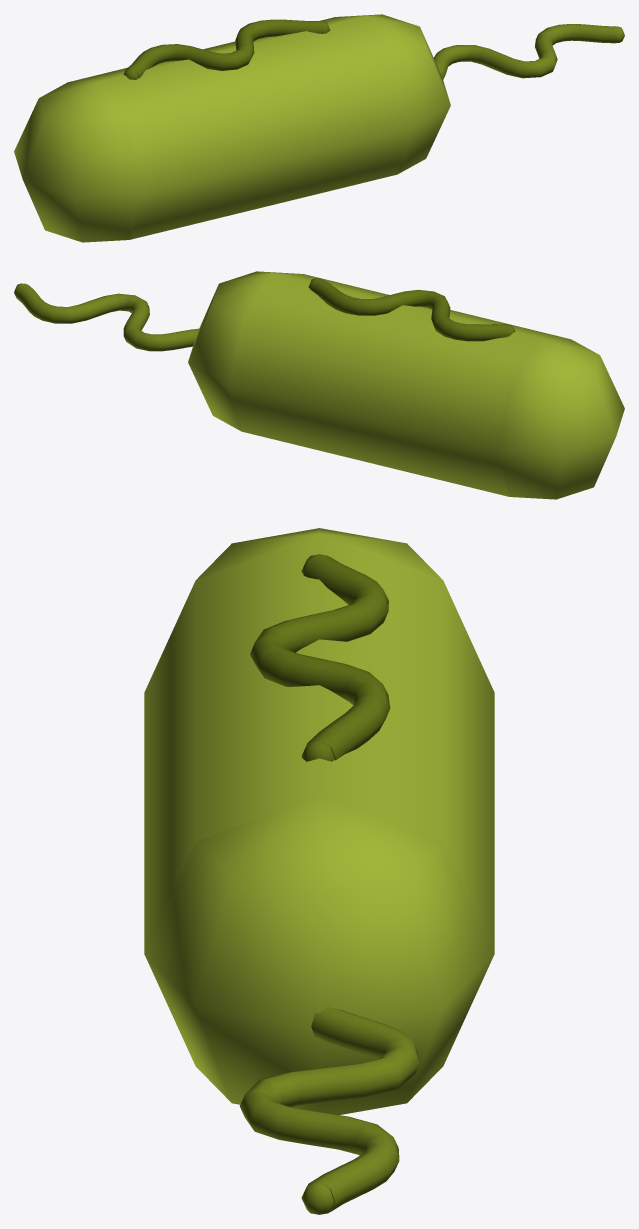
Rendered from bacteria.glb.
The picture shows the model from 3 angles, top to bottom: view 1: azimuth 30°, elevation 25°; view 2: azimuth 150°, elevation 25°; view 3: azimuth 270°, elevation 25°; orthographic projection. The views are drawn at different scales.
Visible parts, largest first — view 1: IW_L2_x_bacteria; view 2: IW_L2_x_bacteria; view 3: IW_L2_x_bacteria.
Boxes of the visible parts, x1,y1,x2,y2 form: IW_L2_x_bacteria: (14,14,624,242); IW_L2_x_bacteria: (14,271,624,499); IW_L2_x_bacteria: (144,528,494,1214).
Size of the model in its own units: 2.69 by 0.7163 by 0.68.
